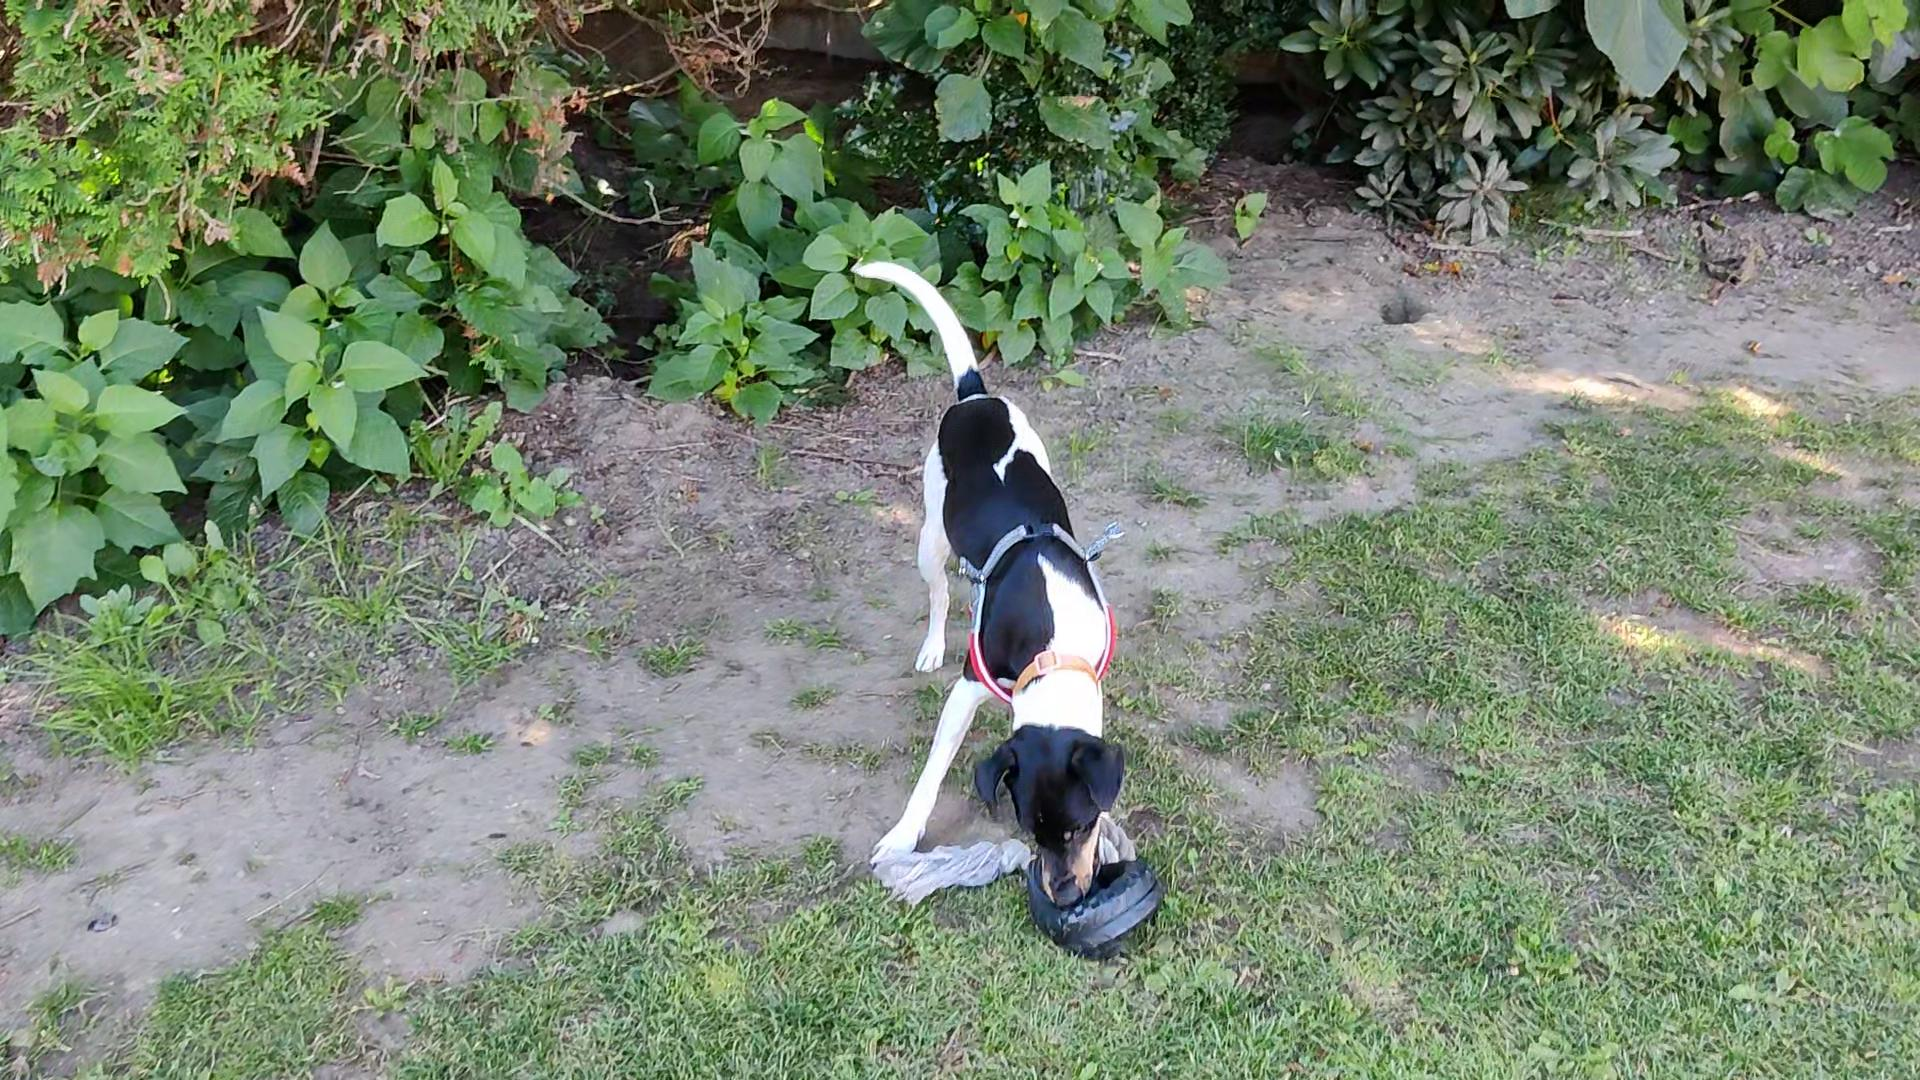Dog: (844, 256, 1139, 909)
